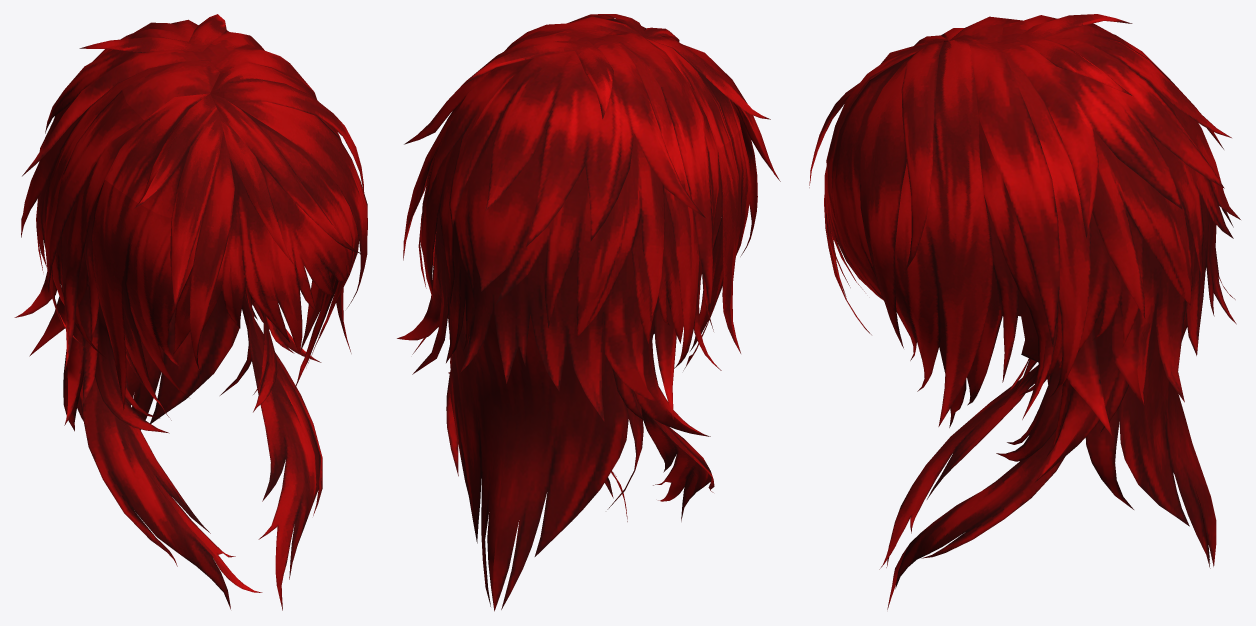
Rendered from Hair_Red.fbx.
3 renders of one model, left to right at view 1: azimuth 30°, elevation 25°; view 2: azimuth 150°, elevation 25°; view 3: azimuth 270°, elevation 25°, orthographic. The views are drawn at different scales.
Parts seen in each view (by area): view 1: HairBlue; view 2: HairBlue; view 3: HairBlue.
Part boxes in pixels (x1=…): HairBlue: x1=14, y1=14, x2=367, y2=610; HairBlue: x1=397, y1=14, x2=780, y2=611; HairBlue: x1=809, y1=14, x2=1240, y2=609.
Bounding box in the file's own units: 29.41 × 50.01 × 34.44.
Materials: 1 (1 with a texture image).
